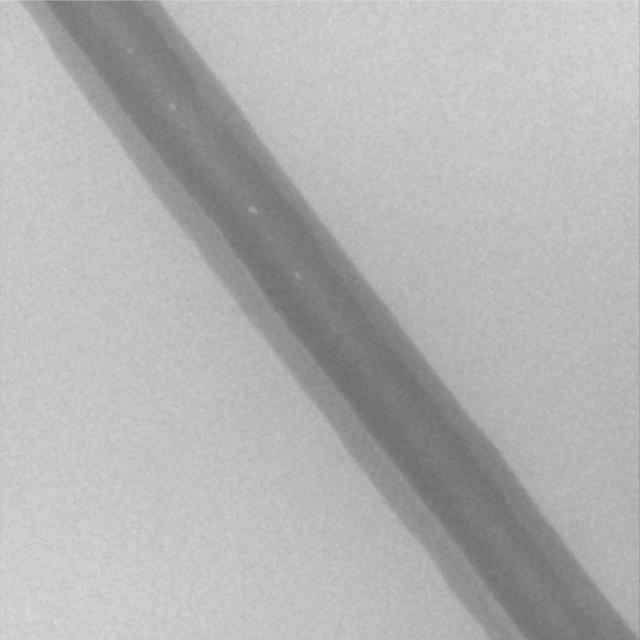air hole: (246, 204, 258, 216), (166, 102, 177, 111), (125, 45, 133, 55), (293, 271, 301, 280)
